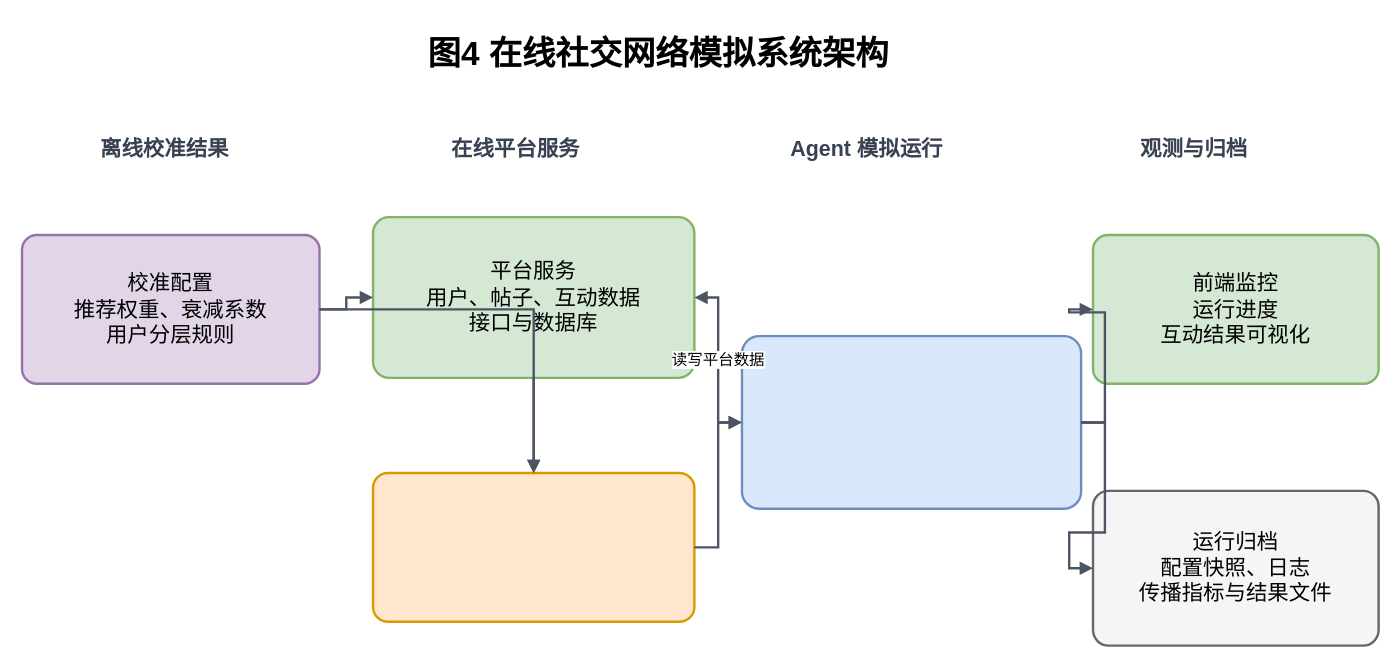
This 1399x666 diagram has some shape labels left out. Each missing label, with the box of its shape:
Agent 决策循环 浏览 Feed、生成行动 发帖、评论、点赞、转发: (740, 334, 1082, 509)
推荐服务 读取校准参数 生成个性化 Feed: (371, 471, 695, 622)
